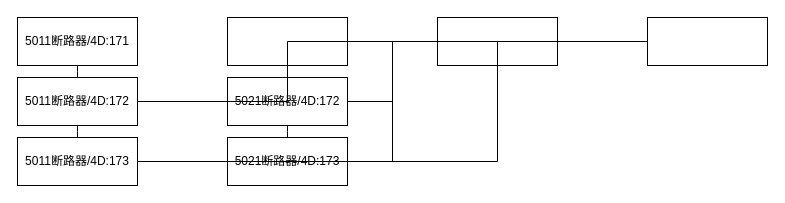
The diagram is 785 pixels wide and 203 high, and some of its shapes have lost their labels. Here are the shapes that lost their labels. From the top down, the centre of each, then its label:
At pixel 287 41: "5021断路器/4D:171".
At pixel 497 41: "3D123".
At pixel 707 41: "4n3X6".
